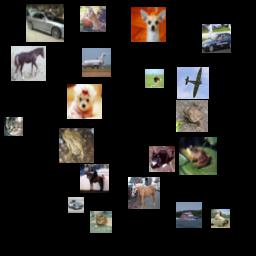airplane: (177, 67, 209, 99), (82, 48, 111, 77)
automobile: (26, 4, 64, 42), (202, 24, 231, 53), (68, 197, 84, 213)
bird: (145, 69, 164, 88)
cat: (149, 146, 175, 172), (80, 6, 106, 32), (90, 211, 112, 233), (4, 117, 23, 136)
dog: (67, 84, 102, 119), (131, 7, 166, 42)
frog: (179, 137, 217, 175), (59, 128, 94, 163), (176, 100, 208, 132)
ship: (176, 202, 202, 228)
